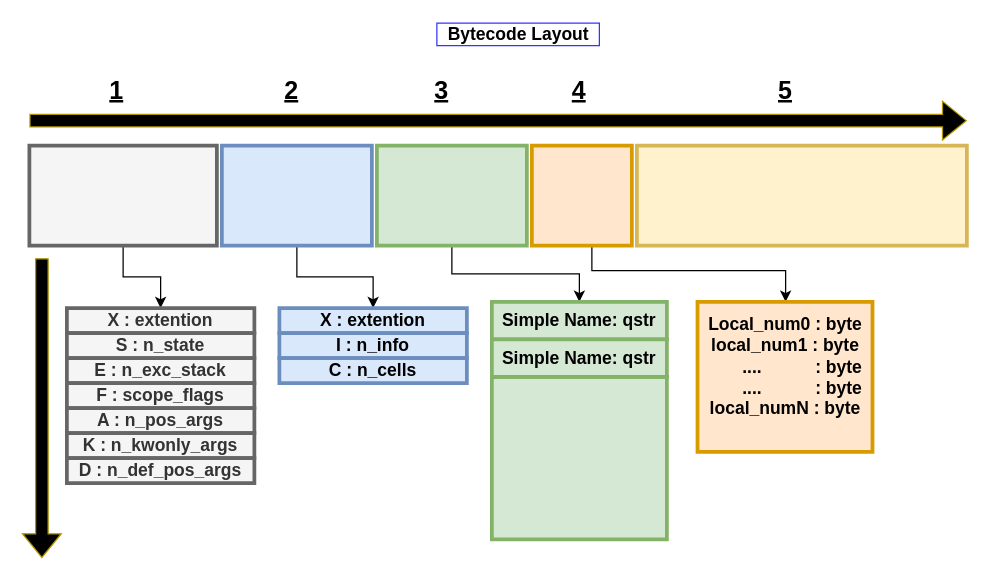
Image size: 990x579. Some labels were removed from this diagram. Each missing label, with the centre of its shape:
Byte Code Section: (x=801, y=195)
Cell or Closure Section: (x=581, y=195)
Code Info Section or Prelude Size 2 Values: (x=296, y=195)
Function Signature Section 6 Values: (x=122, y=195)
Line Number Info: (x=578, y=457)
Source Info Section: (x=451, y=195)
